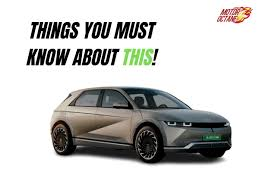Honda Ioniq: (44, 81, 239, 171)
